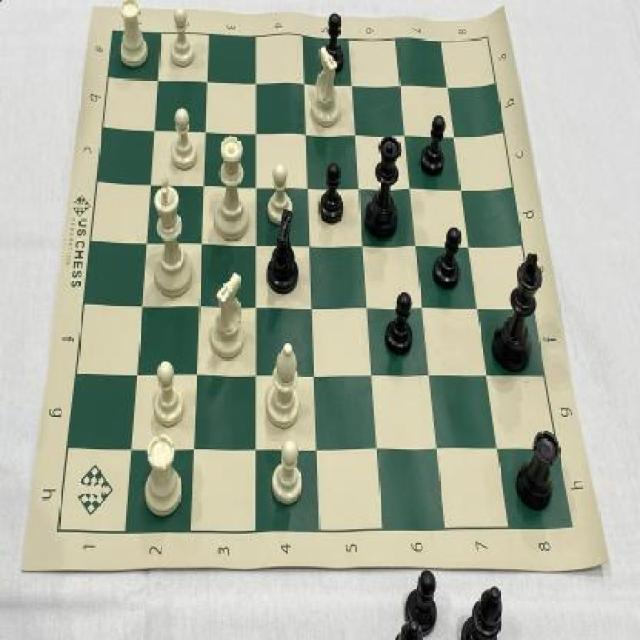black-bishop: (489, 246, 545, 378)
black-king: (263, 208, 303, 296)
black-knight: (381, 288, 417, 358), (430, 223, 464, 292), (418, 112, 449, 182), (315, 160, 347, 226), (323, 9, 345, 72)
black-pawn: (363, 132, 403, 243)
black-queen: (512, 417, 562, 518)
black-rook: (266, 337, 303, 430)
white-bishop: (148, 172, 196, 298)
white-king: (208, 266, 248, 359), (309, 44, 343, 130)
white-knight: (266, 436, 305, 506), (150, 358, 188, 428), (166, 105, 199, 172), (166, 3, 196, 68), (266, 162, 296, 224)
white-pawn: (214, 130, 251, 246)
white-queen: (138, 431, 188, 519), (116, 0, 150, 69)
